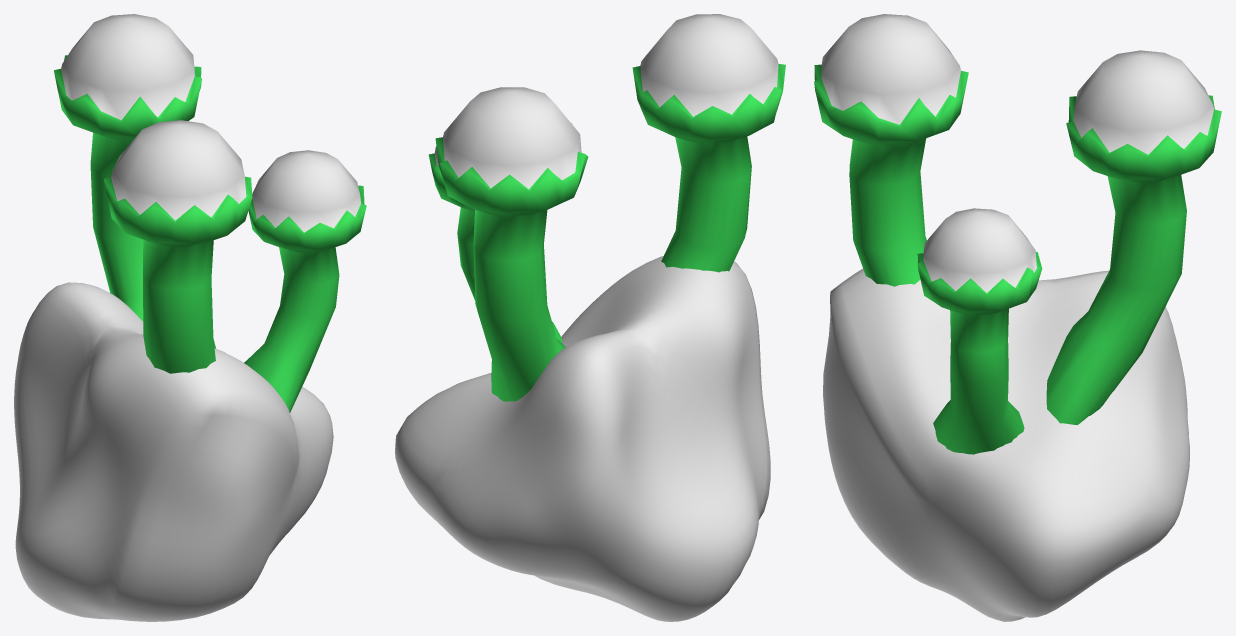
Rendered from M_Prop_RockCoral.fbx.
The picture shows the model from 3 angles, left to right: view 1: azimuth 30°, elevation 25°; view 2: azimuth 150°, elevation 25°; view 3: azimuth 270°, elevation 25°; orthographic projection. The views are drawn at different scales.
Visible parts, largest first — view 1: Coral_Rock; view 2: Coral_Rock; view 3: Coral_Rock.
Boxes of the visible parts, box(x1,y1,x2,y2) form: Coral_Rock: box(14, 14, 366, 621); Coral_Rock: box(395, 14, 785, 621); Coral_Rock: box(814, 14, 1221, 621).
Bounding box in the file's own units: 200 × 211 × 317.
